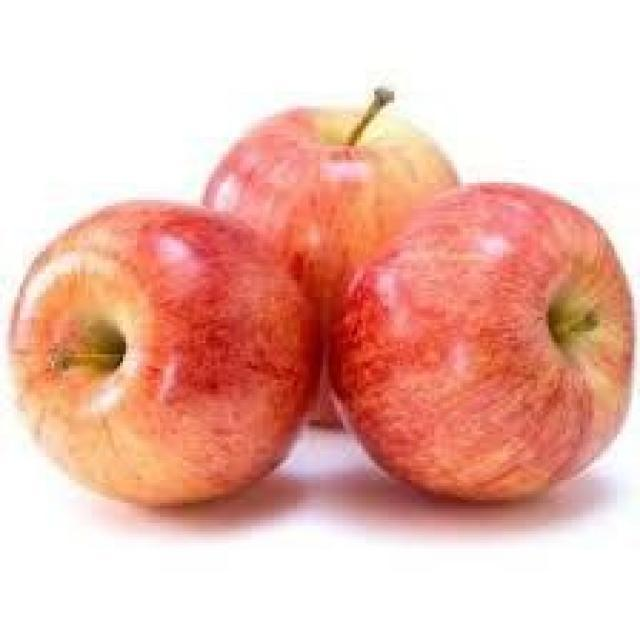Fresh Apple: (343, 185, 625, 517), (33, 204, 317, 514)
